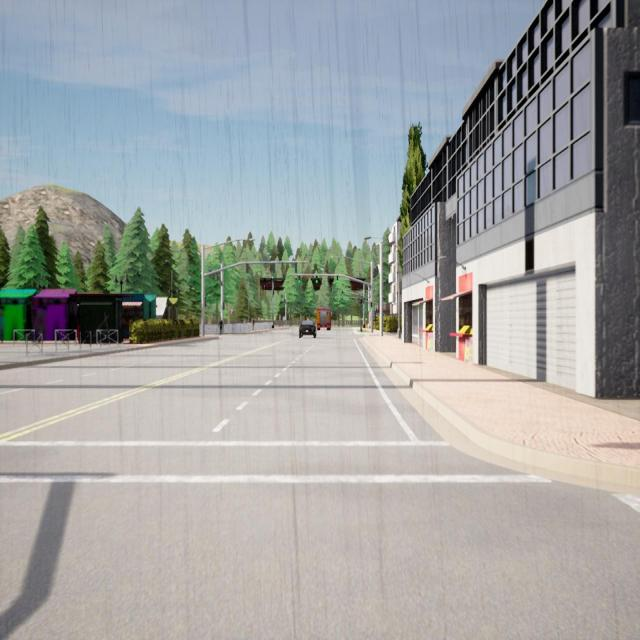Pedestrian: (219, 317, 223, 336), (252, 318, 255, 331)
Traffic_Signs: (282, 316, 286, 321)
Vehicle: (316, 308, 332, 331), (299, 320, 316, 338)
traffic_light: (315, 276, 318, 284), (298, 275, 301, 283), (273, 263, 275, 273), (295, 262, 297, 272), (376, 266, 378, 275), (246, 264, 248, 272), (336, 275, 338, 283), (373, 269, 375, 277), (210, 270, 212, 278), (213, 272, 215, 280), (216, 272, 218, 280), (370, 302, 372, 309), (223, 302, 225, 309), (342, 297, 344, 304), (205, 297, 206, 307), (352, 297, 354, 302), (284, 298, 286, 302), (333, 298, 335, 302), (375, 268, 376, 276), (342, 290, 343, 296)
